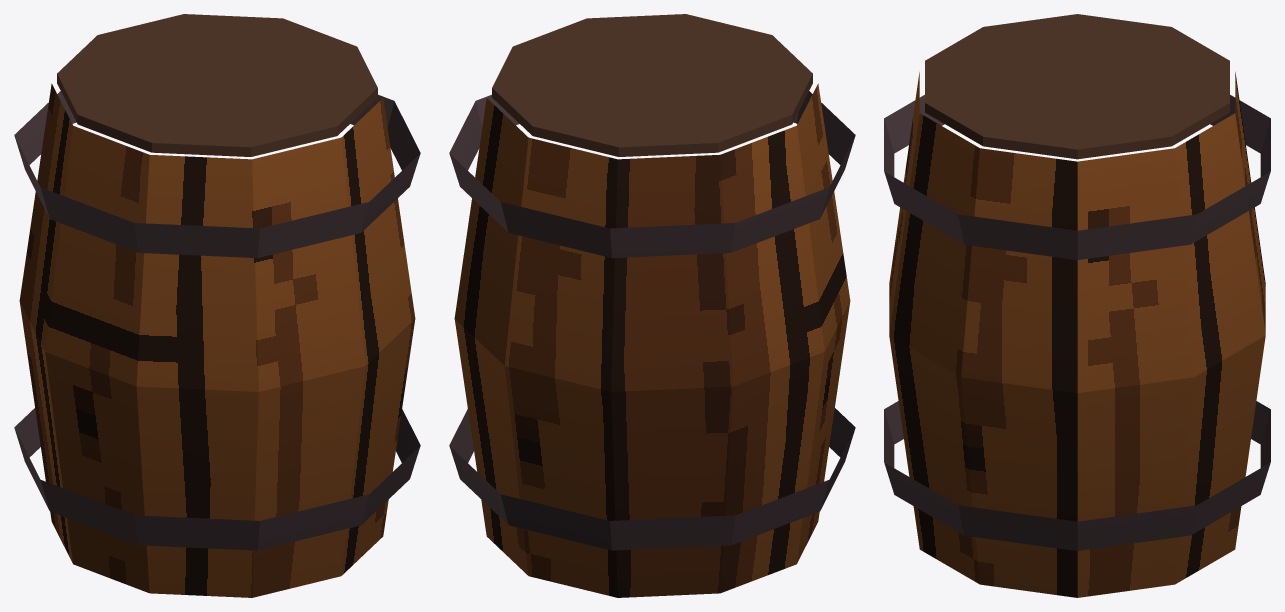
Rendered from barrel.glb.
The picture shows the model from 3 angles, left to right: view 1: azimuth 30°, elevation 25°; view 2: azimuth 150°, elevation 25°; view 3: azimuth 270°, elevation 25°; orthographic projection.
Parts seen in each view (by area): view 1: barrel; view 2: barrel; view 3: barrel.
Part boxes in pixels (box(x1,y1,x2,y2)): barrel: box(14, 14, 420, 597); barrel: box(449, 14, 855, 597); barrel: box(884, 14, 1270, 597).
Size of the model in its own units: 0.76 by 0.92 by 0.7228.
Materials: 2 (1 with a texture image).
